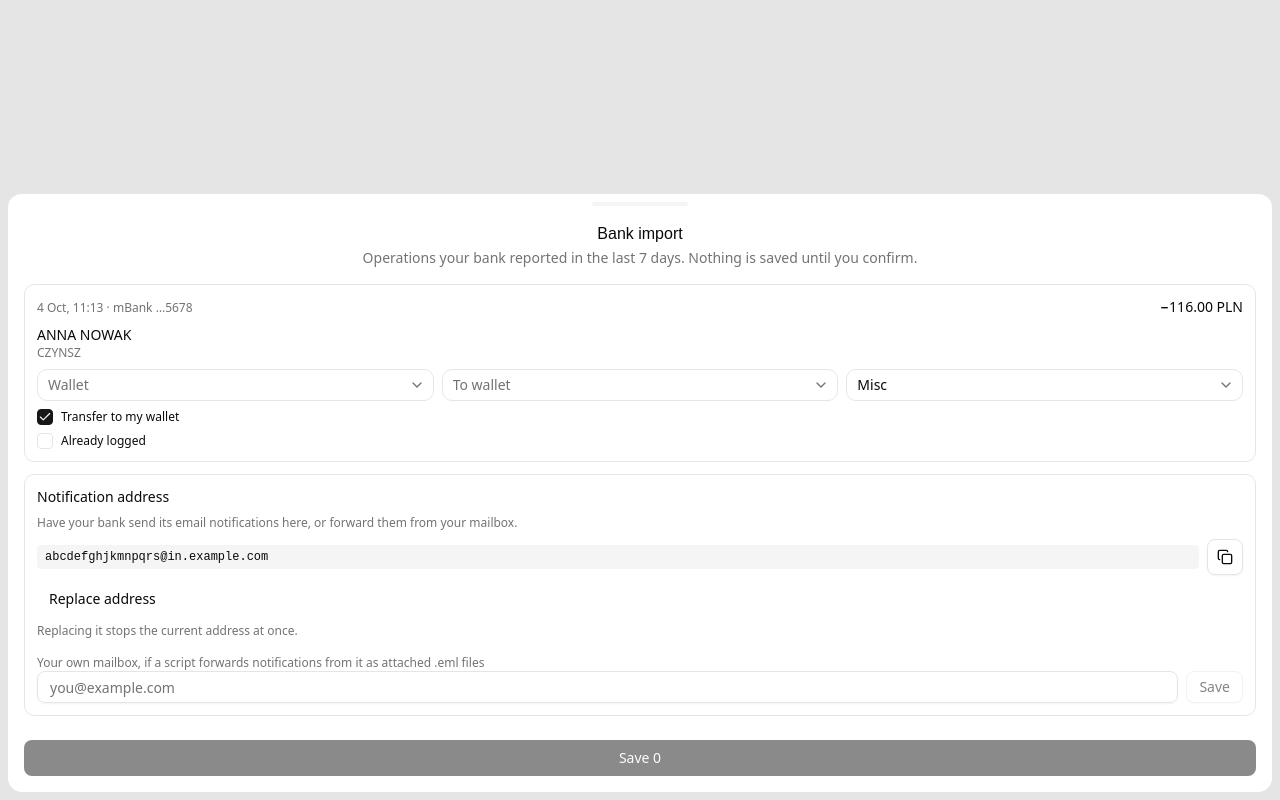
it: BankImportDrawer › turning the transfer off clears the transfer category
Click the checkbox named "Transfer to my wallet" next to "Transfer to my wallet".
click(45, 417)  # box [37,409,53,425]
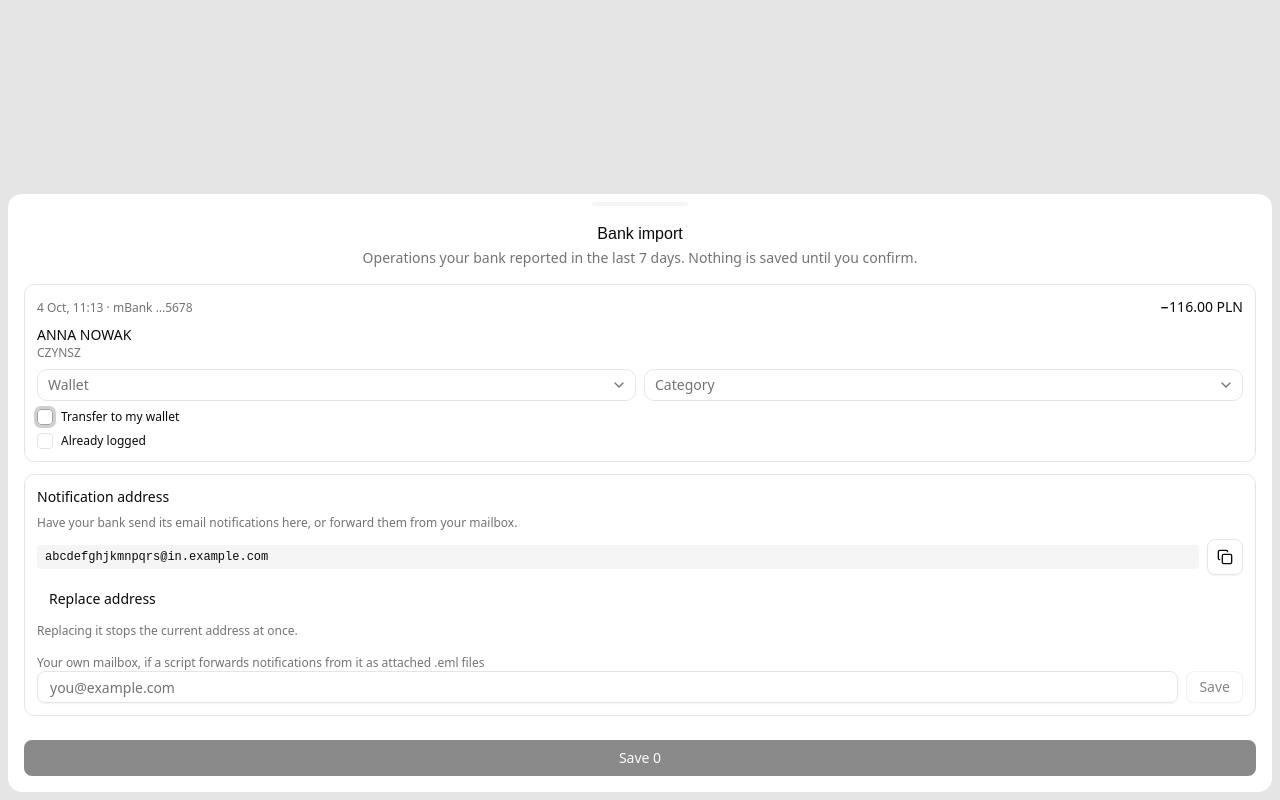
Expected: the dropdown labelled "Category" is empty, [644,369,1243,401]
Expected: the dropdown labelled "To wallet" is gone
